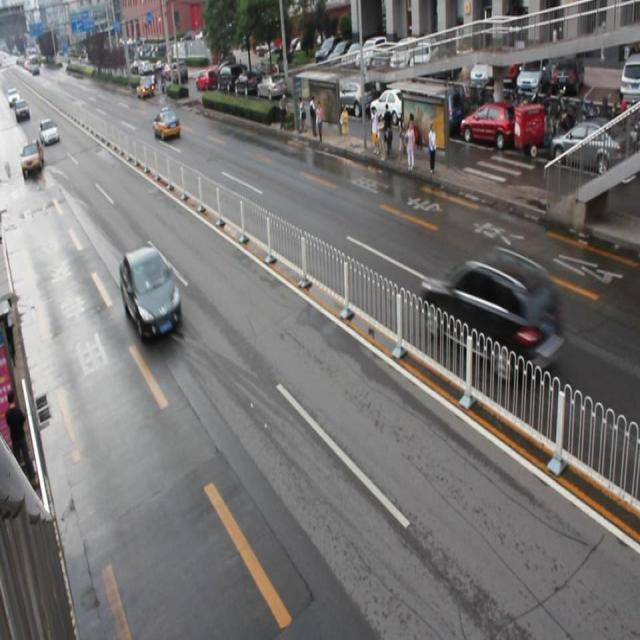car: (421, 255, 563, 384), (119, 244, 182, 340), (154, 108, 182, 141)
